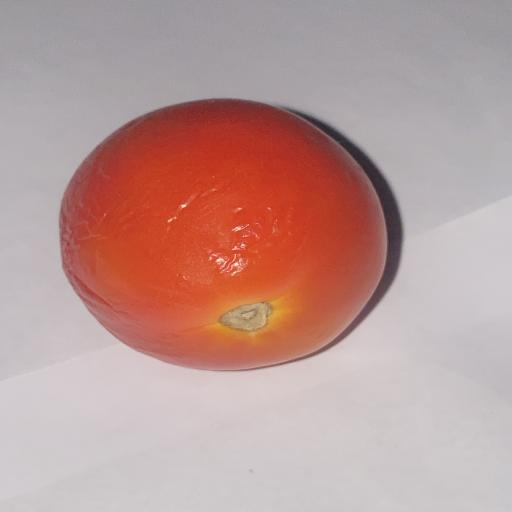spoiled: (60, 100, 387, 369)
